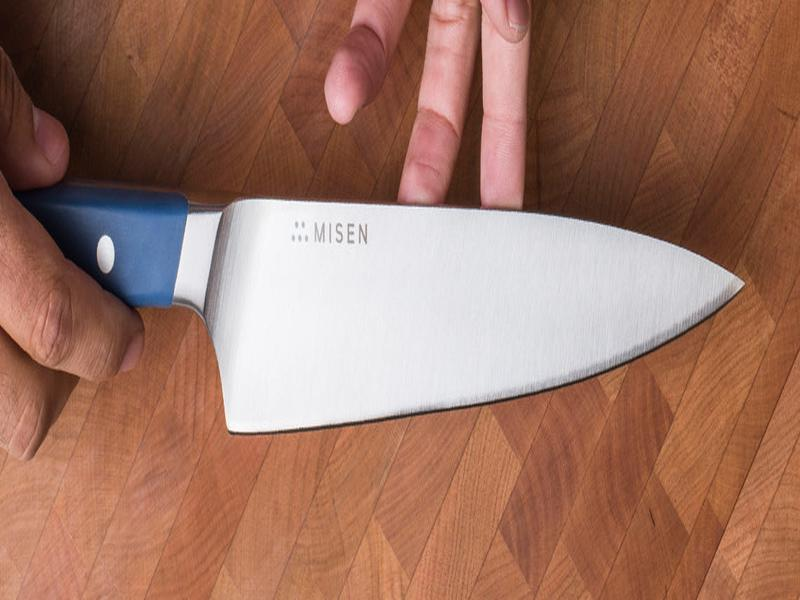KNIFE: (4, 176, 751, 439)
